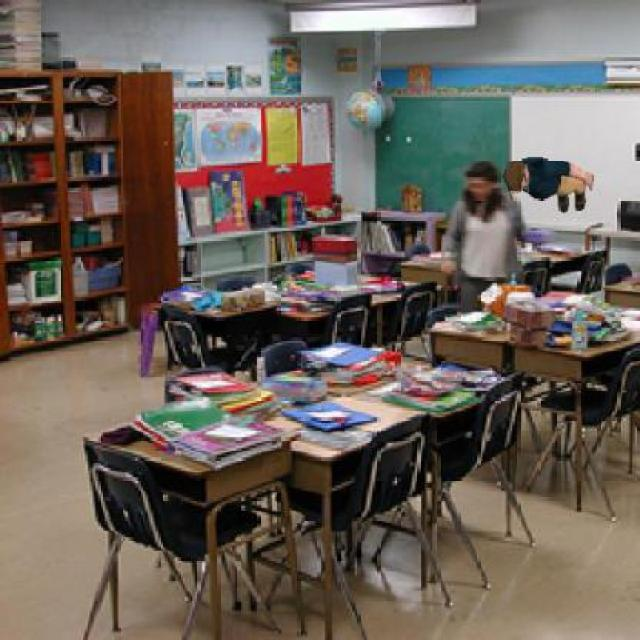Person: (501, 152, 597, 218)
